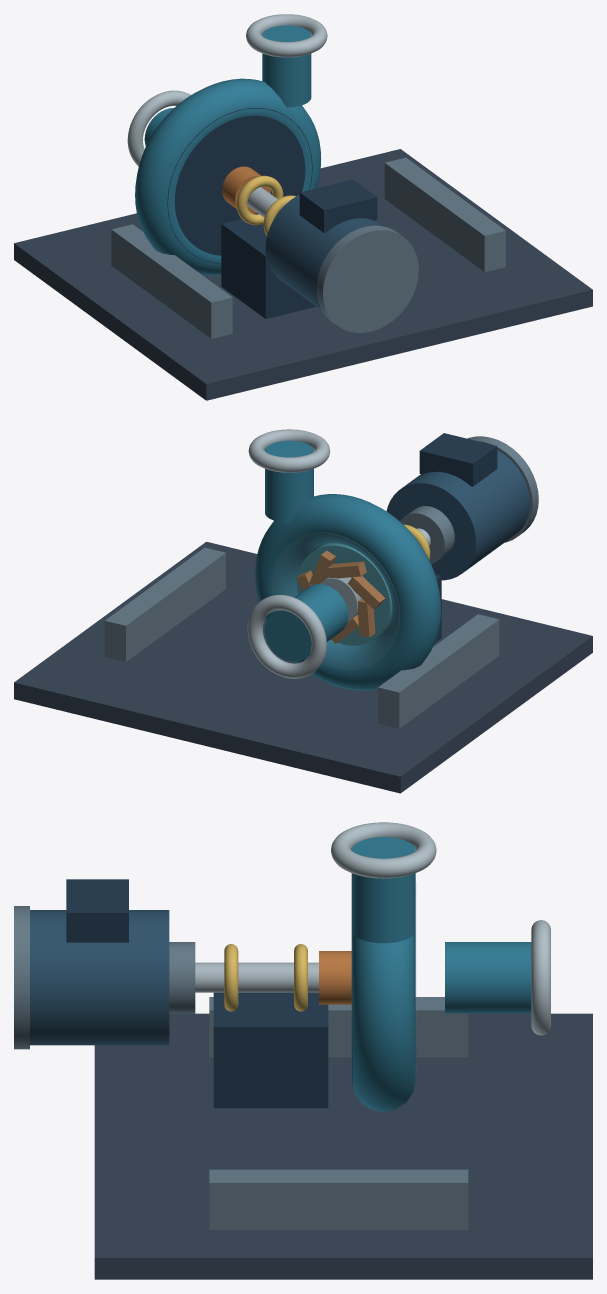
Rendered from original-centrifugal-pump.glb.
3 renders of one model, top to bottom at view 1: azimuth 30°, elevation 25°; view 2: azimuth 150°, elevation 25°; view 3: azimuth 270°, elevation 25°, orthographic. The views are drawn at different scales.
Parts seen in each view (by area): view 1: Skid Baseplate, Foot (×2), Spiral Volute Outline, Backplate, Rear Fan Guard, Pedestal, Motor Stator Shell, Terminal Box, Discharge Neck, Discharge Flange, Suction Flange, Bearing (+2 smaller); view 2: Skid Baseplate, Spiral Volute Outline, Foot (×2), Inspection Cover, Motor Stator Shell, Suction Passage, Suction Flange, Terminal Box, Discharge Neck, Impeller Hub, Discharge Flange, Pump-side Coupling (+6 smaller); view 3: Skid Baseplate, Foot (×2), Motor Stator Shell, Pedestal, Spiral Volute Outline, Suction Passage, Discharge Neck, Terminal Box, Discharge Flange, Pump Shaft, Rear Fan Guard, Suction Flange (+3 smaller).
Boxes of the visible parts, x1,y1,x2,y2 form: Skid Baseplate: [14, 149, 592, 400]; Foot (×2): [111, 157, 505, 338]; Spiral Volute Outline: [135, 78, 320, 275]; Backplate: [167, 108, 312, 263]; Rear Fan Guard: [316, 225, 418, 332]; Pedestal: [221, 219, 316, 318]; Motor Stator Shell: [265, 194, 383, 310]; Terminal Box: [299, 179, 377, 232]; Discharge Neck: [262, 25, 311, 107]; Discharge Flange: [246, 14, 327, 57]; Suction Flange: [127, 90, 190, 166]; Bearing: [236, 175, 283, 225]; Skid Baseplate: [14, 541, 592, 793]; Spiral Volute Outline: [255, 494, 440, 690]; Foot (×2): [104, 547, 499, 728]; Inspection Cover: [272, 533, 399, 669]; Motor Stator Shell: [386, 450, 529, 580]; Suction Passage: [264, 584, 348, 661]; Suction Flange: [247, 595, 326, 678]; Terminal Box: [419, 433, 497, 486]; Discharge Neck: [265, 440, 313, 522]; Impeller Hub: [297, 543, 392, 645]; Discharge Flange: [248, 429, 330, 472]; Pump-side Coupling: [400, 506, 454, 563]; Skid Baseplate: [94, 1013, 592, 1279]; Foot (×2): [209, 997, 468, 1229]; Motor Stator Shell: [30, 910, 169, 1045]; Pedestal: [213, 992, 328, 1108]; Spiral Volute Outline: [351, 930, 415, 1111]; Suction Passage: [445, 942, 531, 1013]; Discharge Neck: [351, 837, 415, 943]; Terminal Box: [66, 879, 128, 942]; Discharge Flange: [331, 822, 436, 878]; Pump Shaft: [195, 962, 318, 992]; Rear Fan Guard: [14, 906, 29, 1049]; Suction Flange: [531, 920, 550, 1035].
Size of the model in its own units: 5.8 by 3.49 by 5.81.
